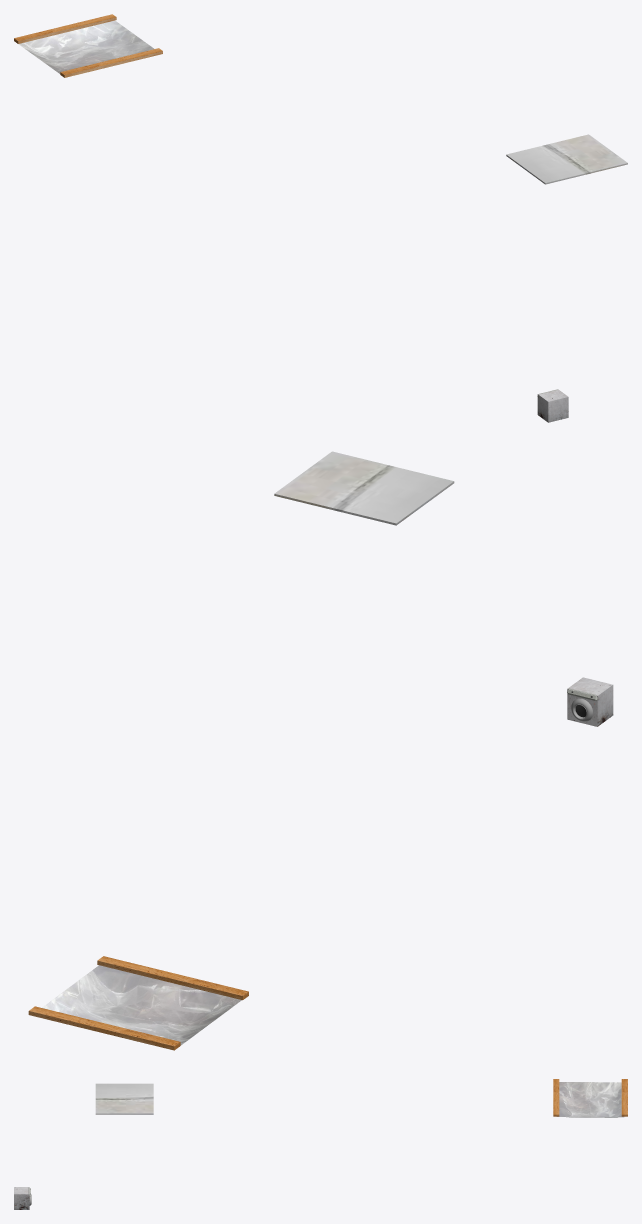
Rendered from David_washing machine.fbx.
3 views of the same model, one above another, from view 1: azimuth 30°, elevation 25°; view 2: azimuth 150°, elevation 25°; view 3: azimuth 270°, elevation 25° (orthographic). The views are drawn at different scales.
Visible parts, largest first — view 1: pPlane21, pCube85, pCube96, pCube10; view 2: pPlane21, pCube85, pCube96, pCube10; view 3: pPlane21, pCube85, pCube96, pCube10.
Part boxes in pixels (x1,y1,x2,y2): pPlane21: (18,20,153,73); pCube85: (506,134,627,184); pCube96: (14,14,162,77); pCube10: (537,389,568,422); pPlane21: (42,965,241,1045); pCube85: (274,451,454,525); pCube96: (28,956,248,1050); pCube10: (567,677,613,726); pPlane21: (557,1082,623,1117); pCube85: (95,1083,153,1114); pCube96: (553,1079,627,1116); pCube10: (14,1187,29,1209).
Bounding box in the file's own units: 34.99 × 24.57 × 99.34.
Materials: 9 (6 with a texture image).
